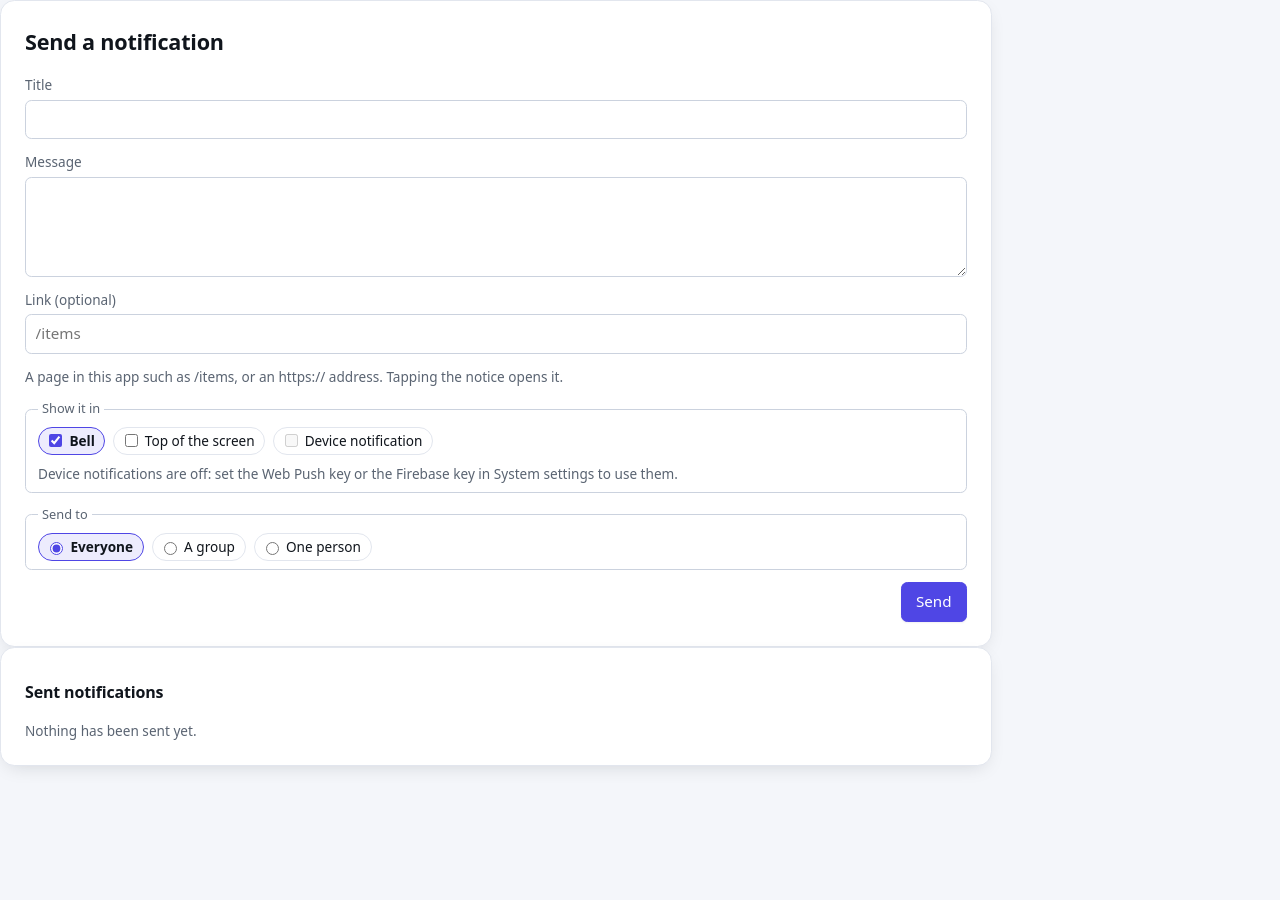
NotificationsAdminPage › グループ宛てに、選んだ場所で送る
Type "Closing" into the field labelled "Title".
click(496, 119); type("Closing")  # box [25,100,967,139]
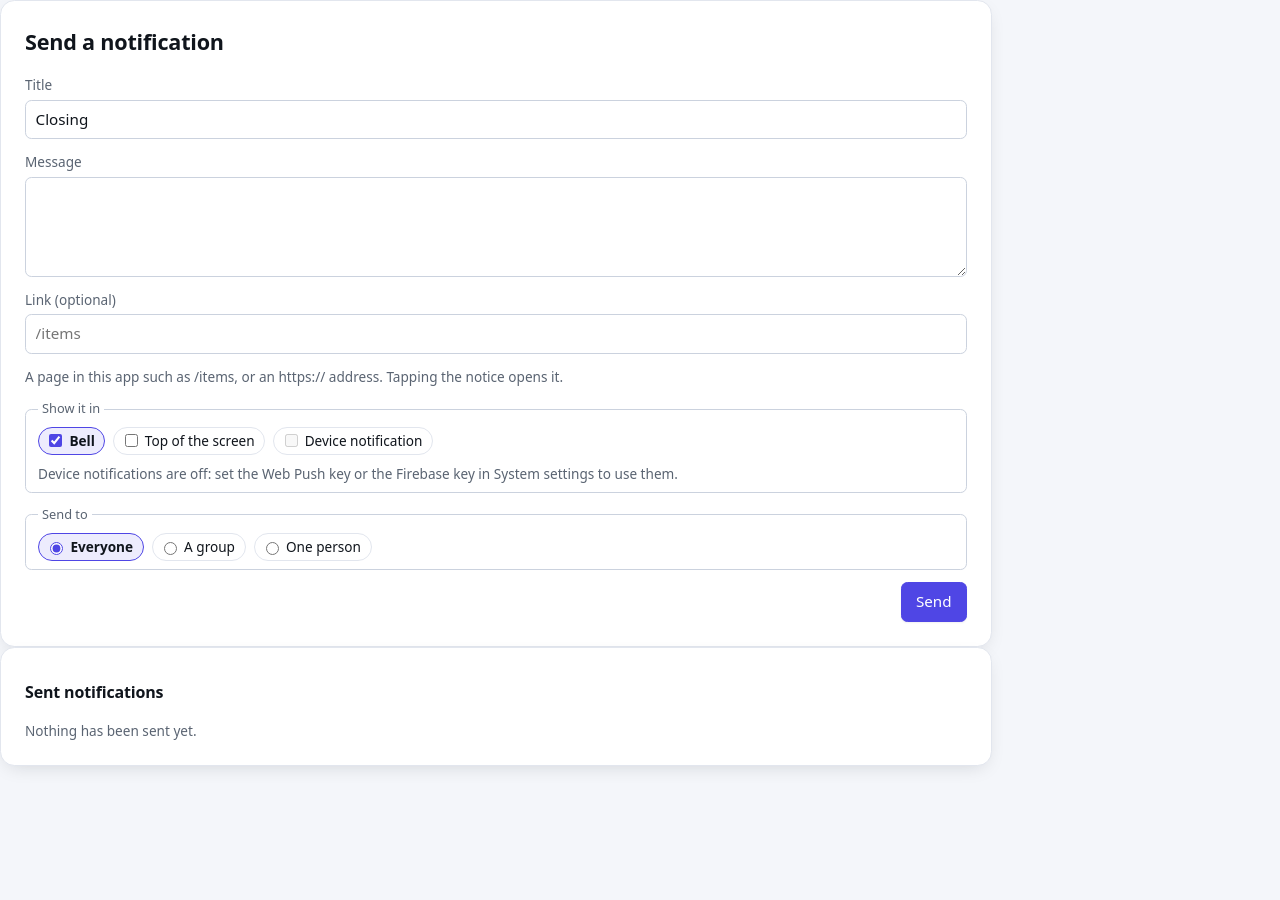
Type "Month end" into the text box labelled "Message".
click(496, 227); type("Month end")  # box [25,176,967,277]
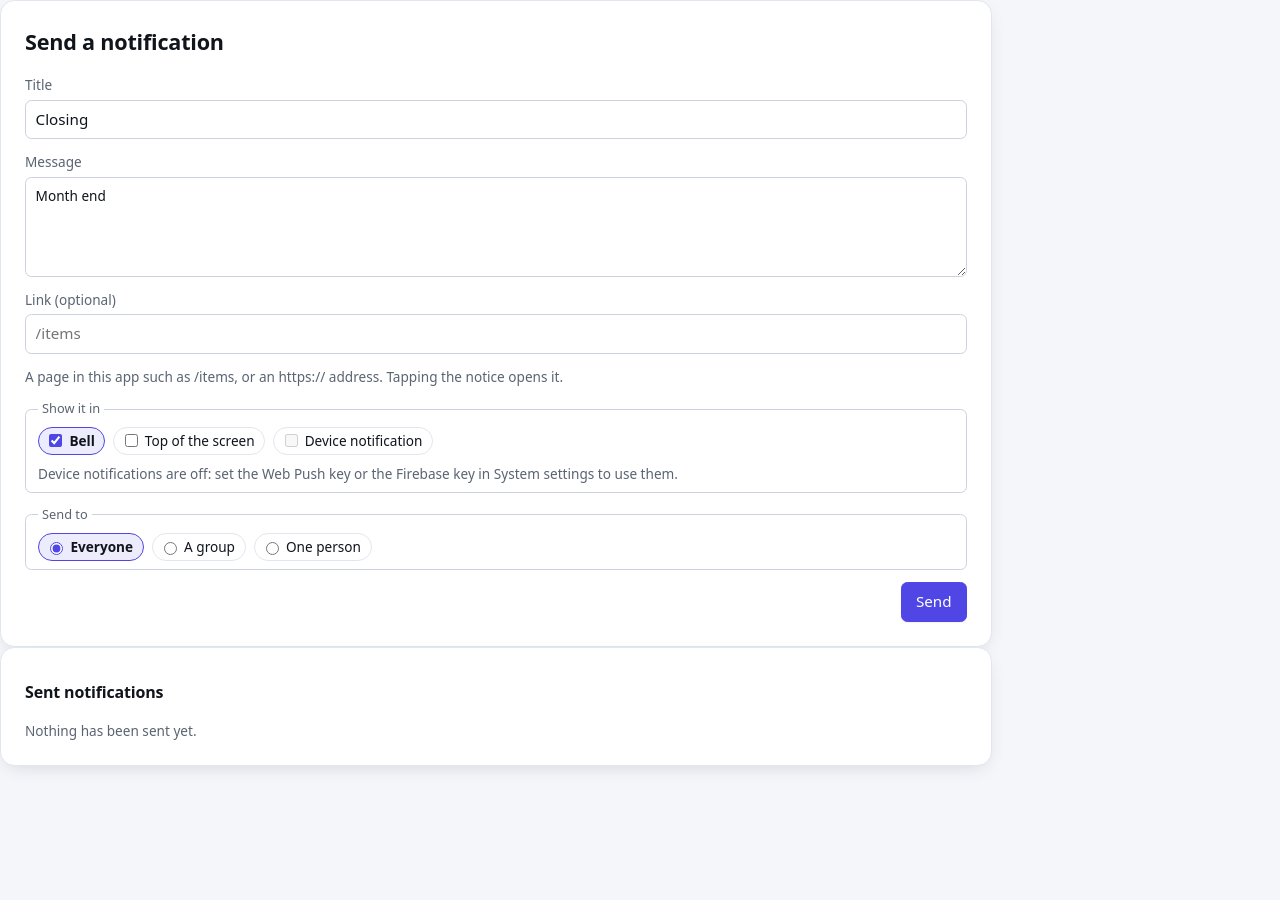
Click the checkbox labelled "Top of the screen".
click(131, 441)  # box [125,434,138,447]
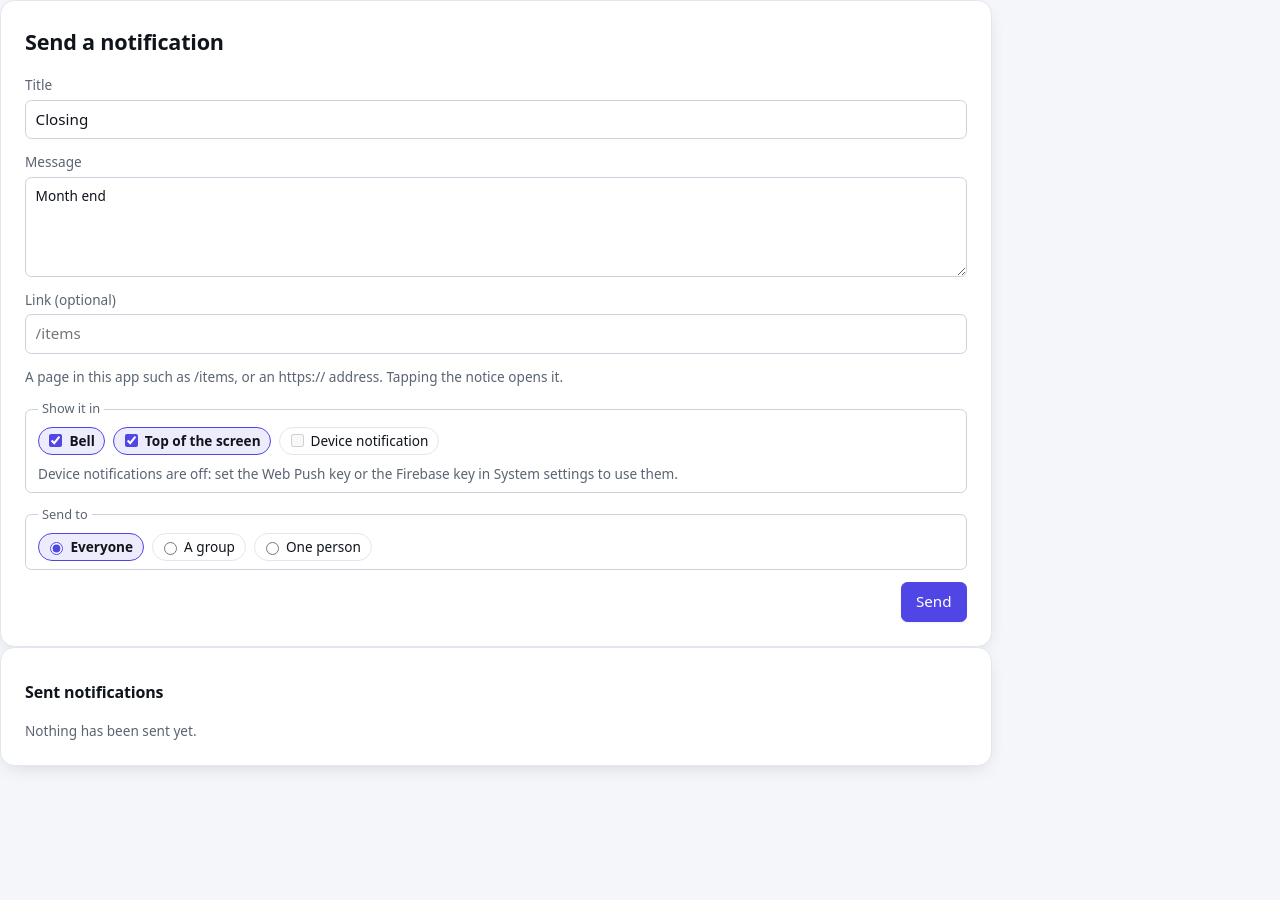
Click the radio button labelled "A group".
click(170, 548)  # box [164,542,177,555]
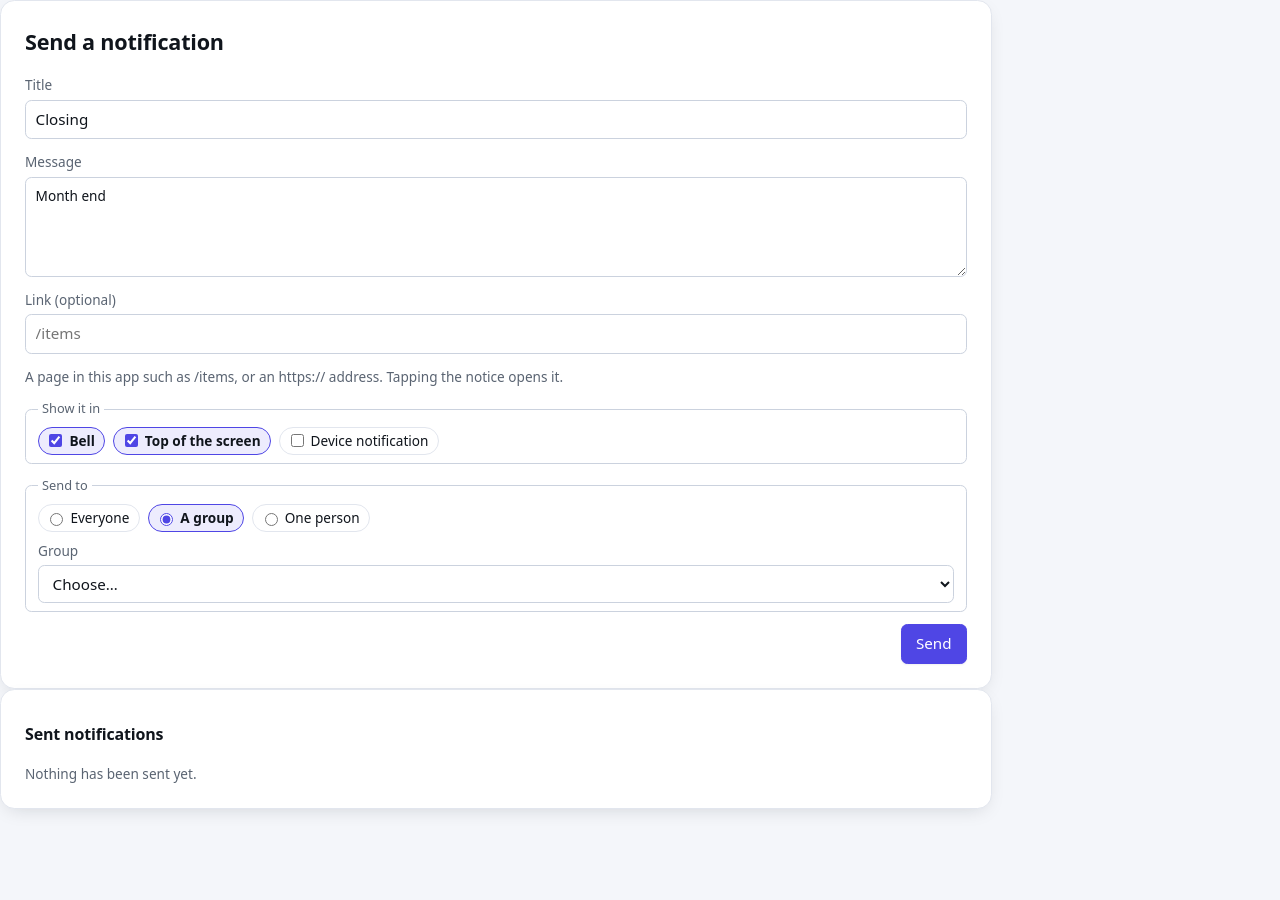
Select "Accounting (3)" in the dropdown labelled "Group" at coordinates (496, 584), box [38,565,954,603]
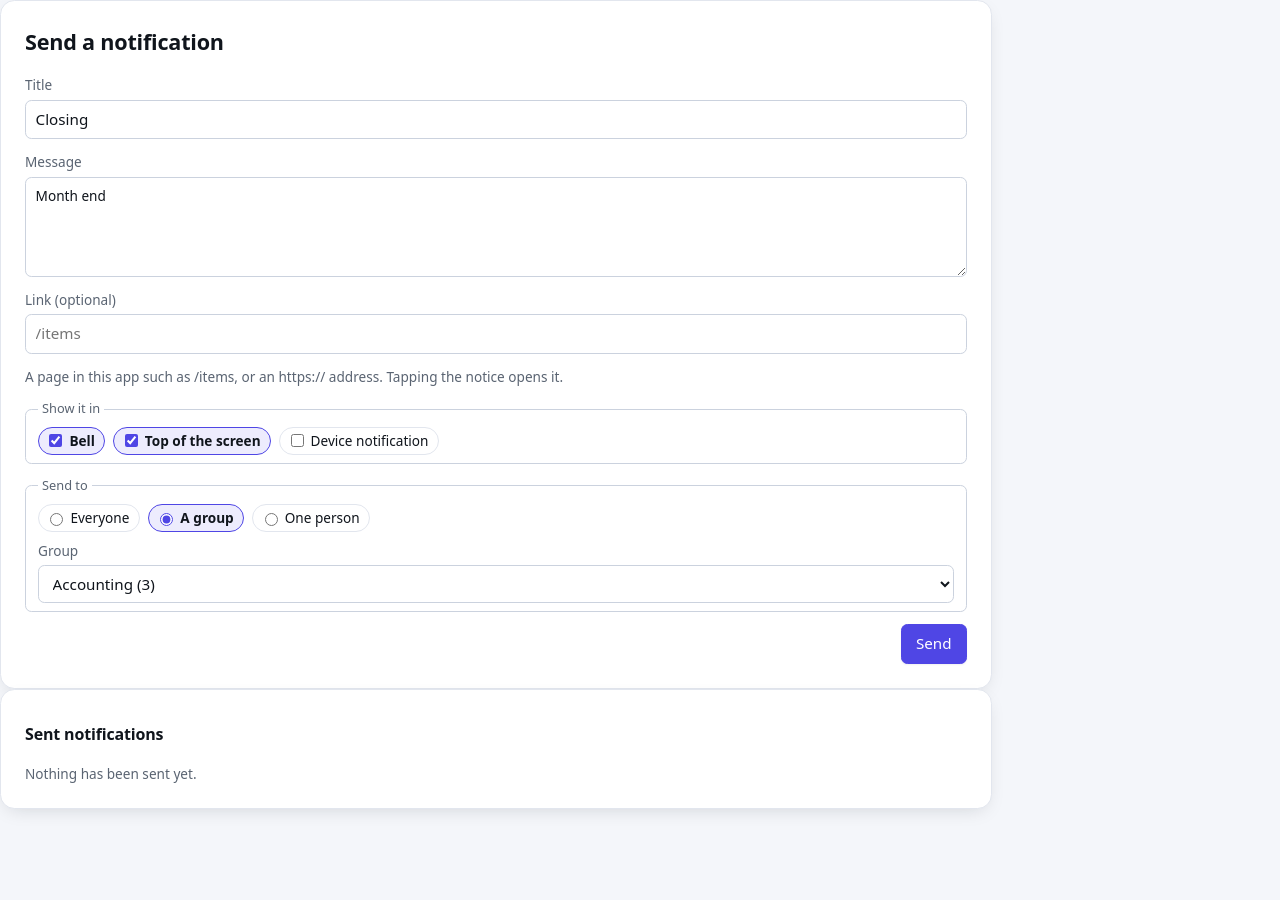
Click the button "Send".
click(934, 644)  # box [901,624,967,664]
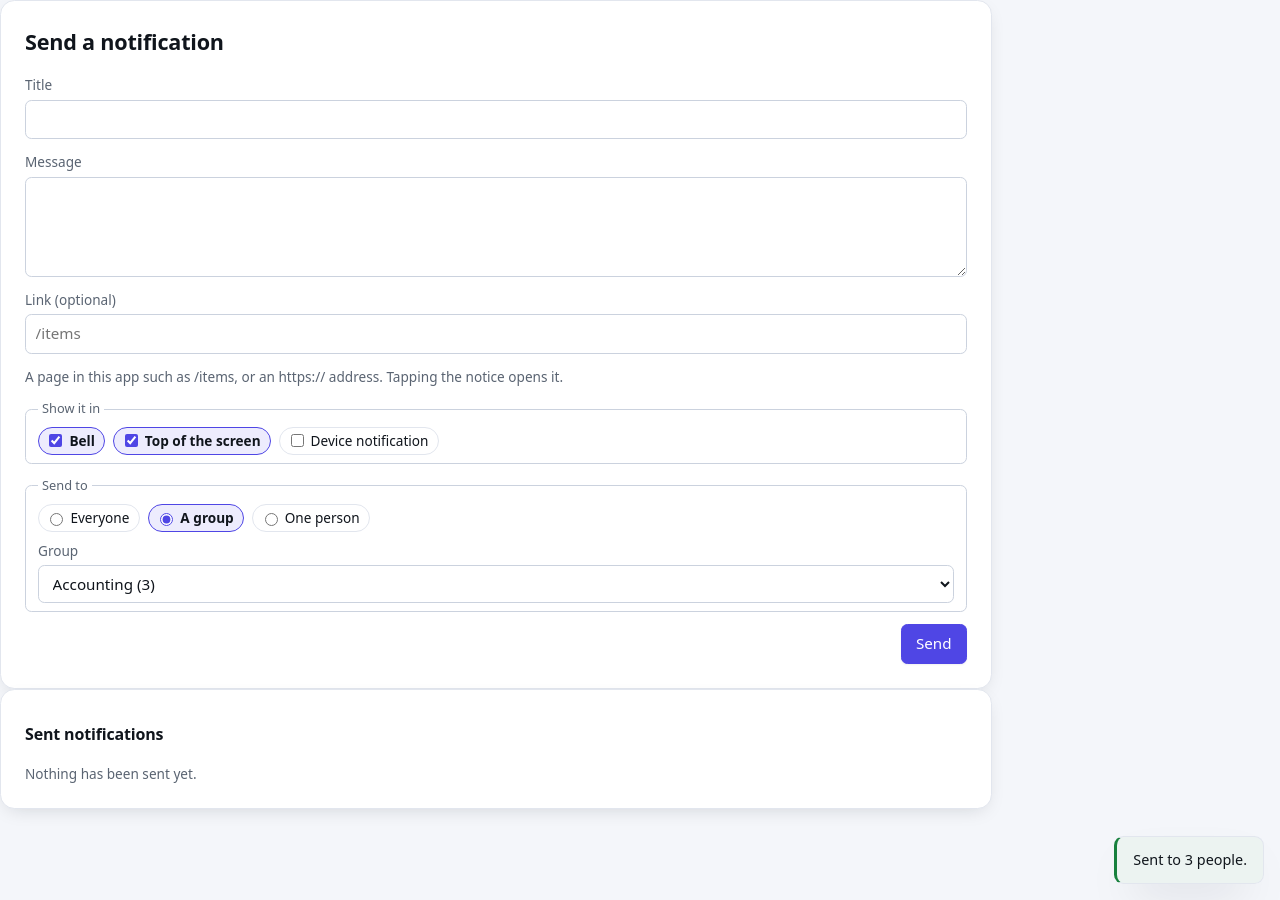
Expected: the text "Sent to 3 people." is shown, [1114,836,1264,884]
